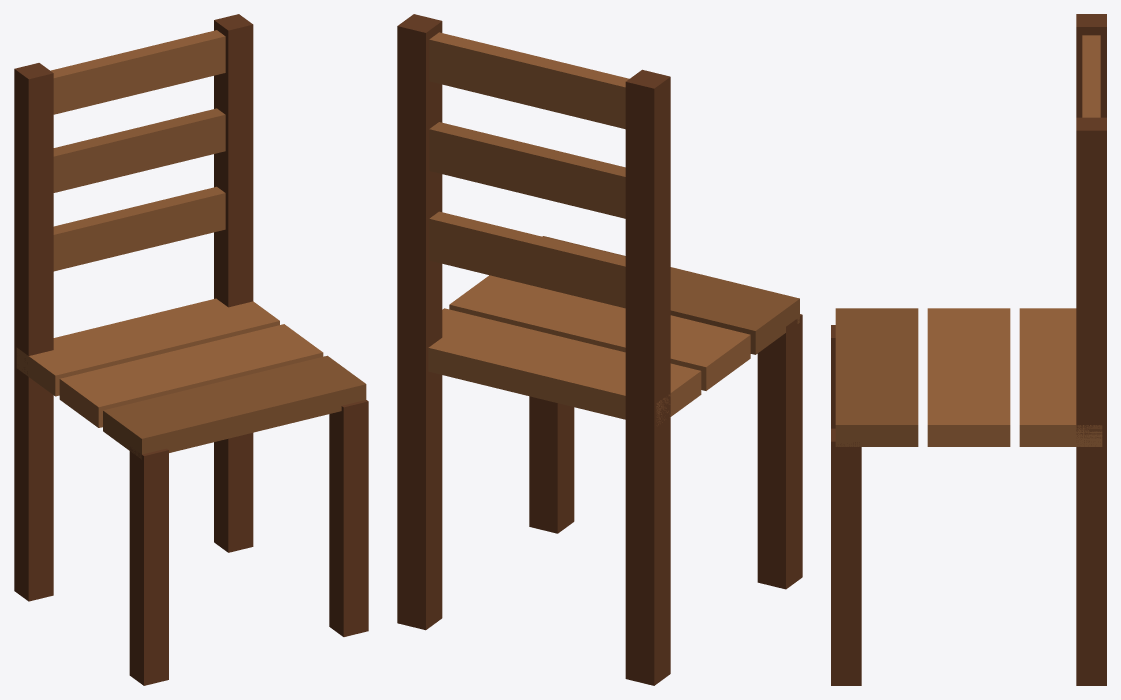
Rendered from chair.glb.
3 renders of one model, left to right at view 1: azimuth 30°, elevation 25°; view 2: azimuth 150°, elevation 25°; view 3: azimuth 270°, elevation 25°, orthographic. The views are drawn at different scales.
Visible parts, largest first — view 1: props/chair; view 2: props/chair; view 3: props/chair.
Part boxes in pixels (x1=…): props/chair: x1=14, y1=14, x2=368, y2=685; props/chair: x1=397, y1=14, x2=802, y2=685; props/chair: x1=831, y1=14, x2=1106, y2=685.
Size of the model in its own units: 0.45 by 1 by 0.45.
